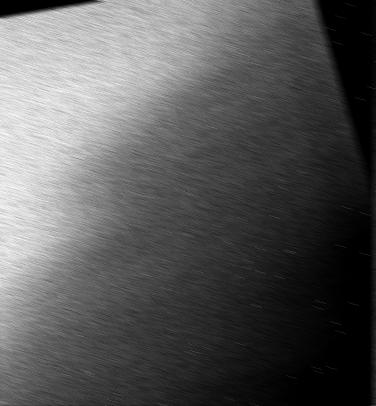Airbag: (0, 0, 376, 406), (374, 0, 376, 406)
